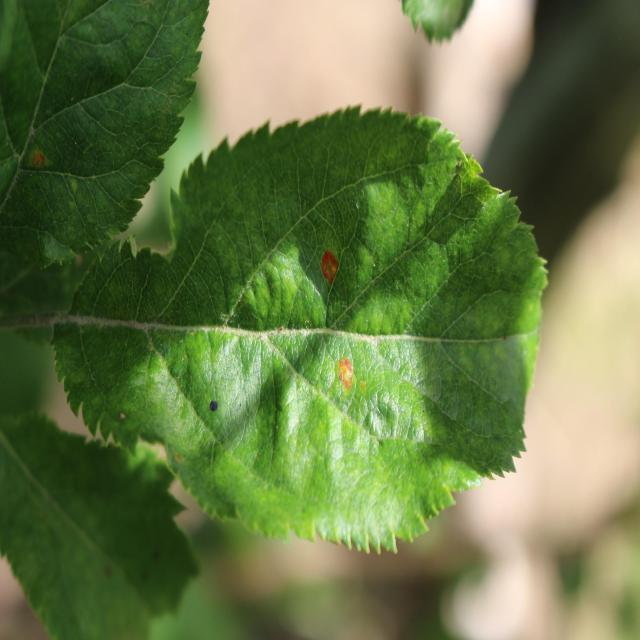Rust: (317, 238, 350, 295), (331, 344, 362, 402), (22, 135, 52, 183)
